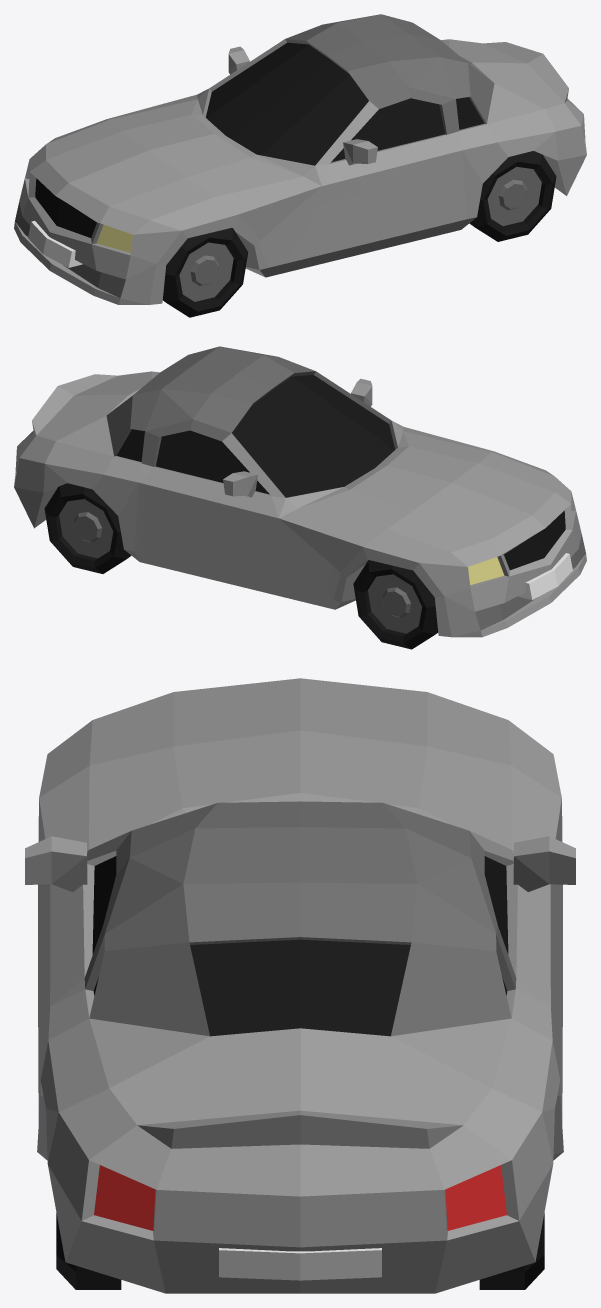
Rendered from vehicle_static_car_6.glb.
3 renders of one model, top to bottom at view 1: azimuth 30°, elevation 25°; view 2: azimuth 150°, elevation 25°; view 3: azimuth 270°, elevation 25°, orthographic. The views are drawn at different scales.
Visible parts, largest first — view 1: Wheel6-4; view 2: Wheel6-4; view 3: Wheel6-4.
Boxes of the visible parts, bbox=[...] form: Wheel6-4: bbox=[14, 14, 586, 317]; Wheel6-4: bbox=[14, 346, 586, 649]; Wheel6-4: bbox=[25, 678, 575, 1293].
Bounding box in the file's own units: 4.58 × 1.52 × 2.13.
Materials: 4 (4 with a texture image).
